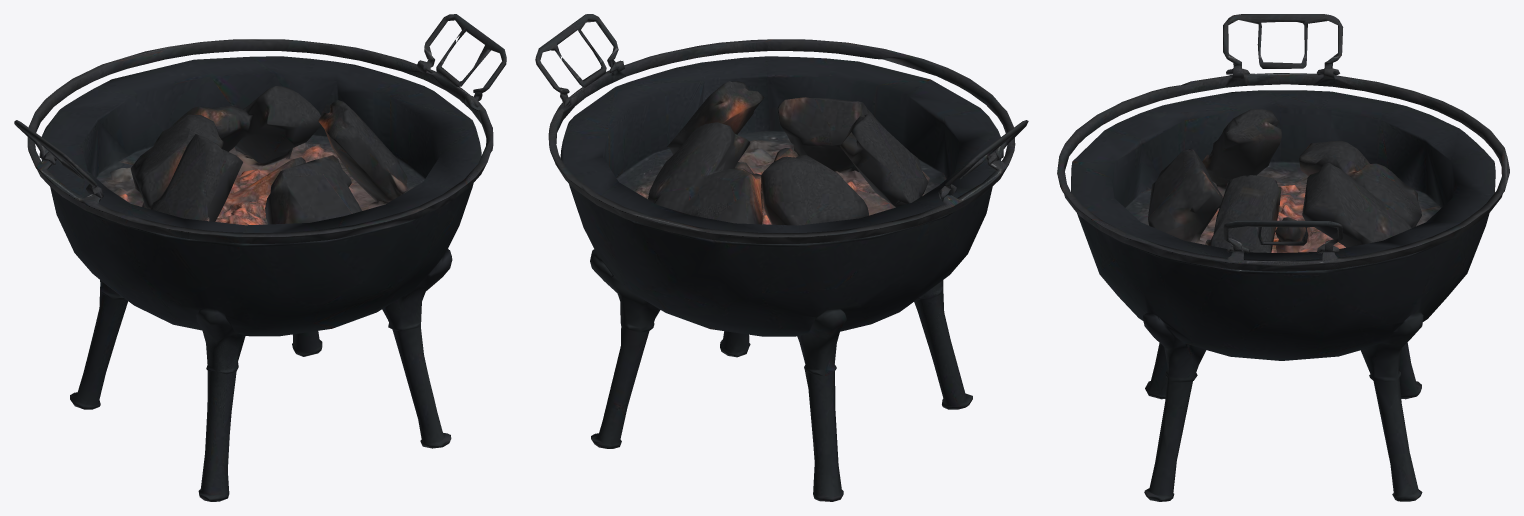
The model's file is brazier.glb.
The picture shows the model from 3 angles, left to right: view 1: azimuth 30°, elevation 25°; view 2: azimuth 150°, elevation 25°; view 3: azimuth 270°, elevation 25°; orthographic projection. The views are drawn at different scales.
Parts seen in each view (by area): view 1: Mesh_0; view 2: Mesh_0; view 3: Mesh_0.
Boxes of the visible parts, x1,y1,x2,y2 form: Mesh_0: (14, 14, 506, 501); Mesh_0: (535, 14, 1028, 501); Mesh_0: (1057, 14, 1509, 501).
Bounding box in the file's own units: 1.9 × 1.4 × 1.75.
Materials: 1 (1 with a texture image).
